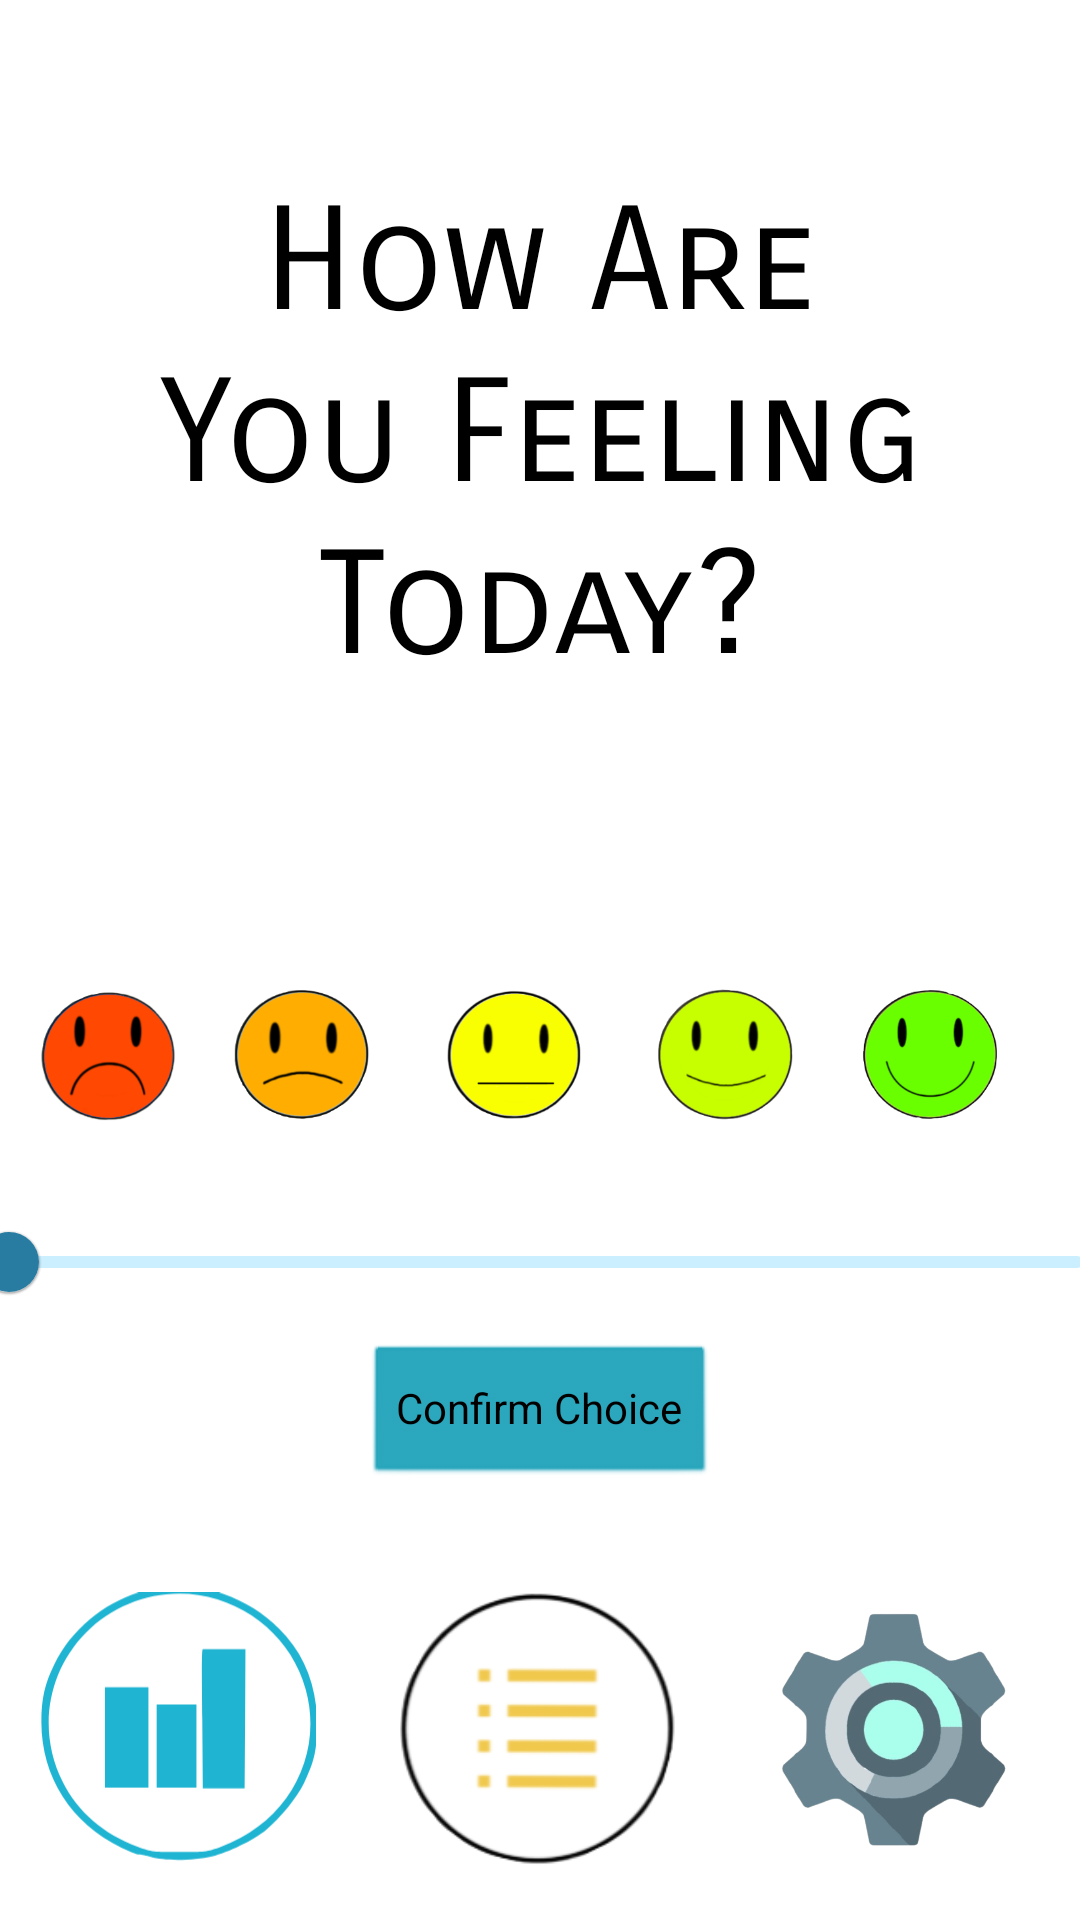

Where to tap for icons on this 1080×1920 app screen, as (x=x, y=y):
diary: (x=537, y=1728)
settings: (x=894, y=1730)
trends: (x=178, y=1726)
